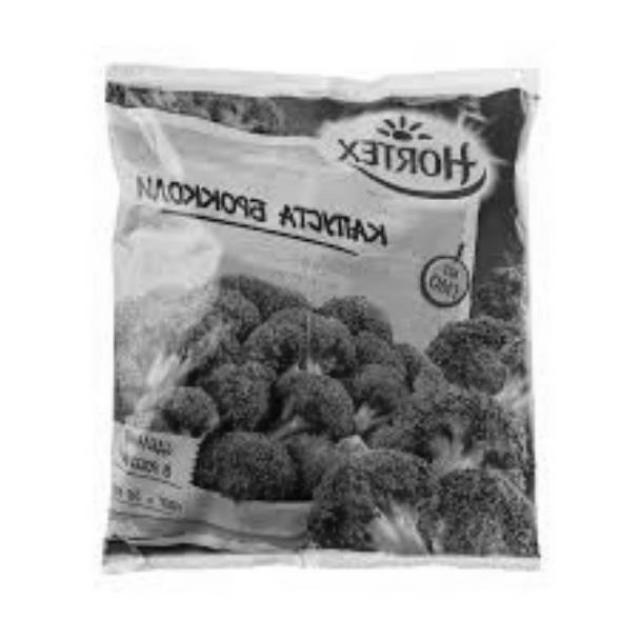bong cai xanh: (133, 273, 539, 550)
